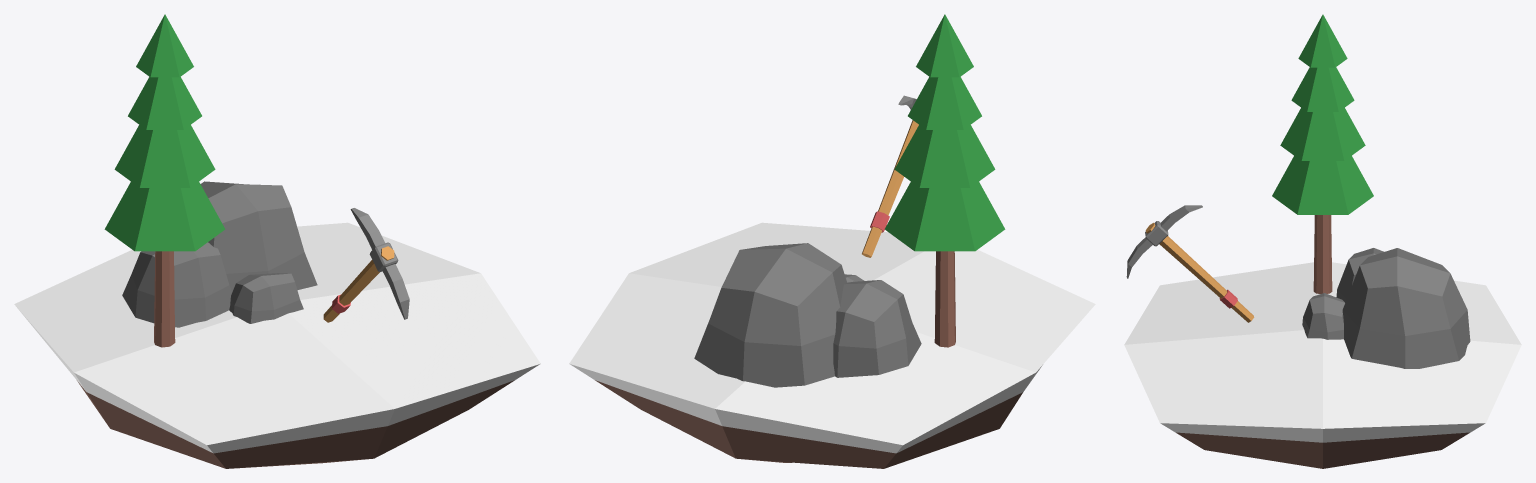
Rendered from winter.glb.
3 renders of one model, left to right at view 1: azimuth 30°, elevation 25°; view 2: azimuth 150°, elevation 25°; view 3: azimuth 270°, elevation 25°, orthographic. The views are drawn at different scales.
Visible parts, largest first — view 1: Cube, Cube.002, Cone, Cube.001, Cone.001, Cube.003, Cone.002, Cylinder.001, Cone.003, Cylinder; view 2: Cube, Cube.002, Cube.001, Cone, Cone.001, Cone.002, Cone.003, Cylinder, Cylinder.001; view 3: Cube, Cube.002, Cone, Cone.001, Cylinder.001, Cone.002, Cube.003, Cone.003, Cylinder, Cube.001.
Boxes of the visible parts, bbox=[...] form: Cube: bbox=[14, 222, 540, 468]; Cube.002: bbox=[200, 181, 317, 291]; Cone: bbox=[104, 182, 225, 251]; Cube.001: bbox=[122, 242, 232, 327]; Cone.001: bbox=[114, 125, 215, 187]; Cube.003: bbox=[229, 273, 303, 323]; Cone.002: bbox=[128, 77, 201, 129]; Cylinder.001: bbox=[323, 208, 409, 322]; Cone.003: bbox=[136, 14, 193, 77]; Cylinder: bbox=[154, 251, 175, 347]; Cube: bbox=[569, 222, 1095, 468]; Cube.002: bbox=[694, 243, 847, 387]; Cube.001: bbox=[833, 280, 921, 377]; Cone: bbox=[884, 182, 1005, 251]; Cone.001: bbox=[894, 125, 995, 187]; Cone.002: bbox=[908, 77, 981, 129]; Cone.003: bbox=[916, 14, 973, 77]; Cylinder: bbox=[934, 251, 955, 347]; Cylinder.001: bbox=[862, 95, 918, 257]; Cube: bbox=[1124, 262, 1521, 468]; Cube.002: bbox=[1342, 248, 1470, 368]; Cone: bbox=[1272, 156, 1373, 214]; Cone.001: bbox=[1280, 108, 1365, 160]; Cylinder.001: bbox=[1126, 205, 1254, 322]; Cone.002: bbox=[1291, 67, 1354, 111]; Cube.003: bbox=[1302, 293, 1344, 339]; Cone.003: bbox=[1298, 14, 1347, 67]; Cylinder: bbox=[1313, 215, 1332, 293]; Cube.001: bbox=[1336, 248, 1383, 302].
Bounding box in the file's own units: 2.08 × 2.32 × 2.08.
